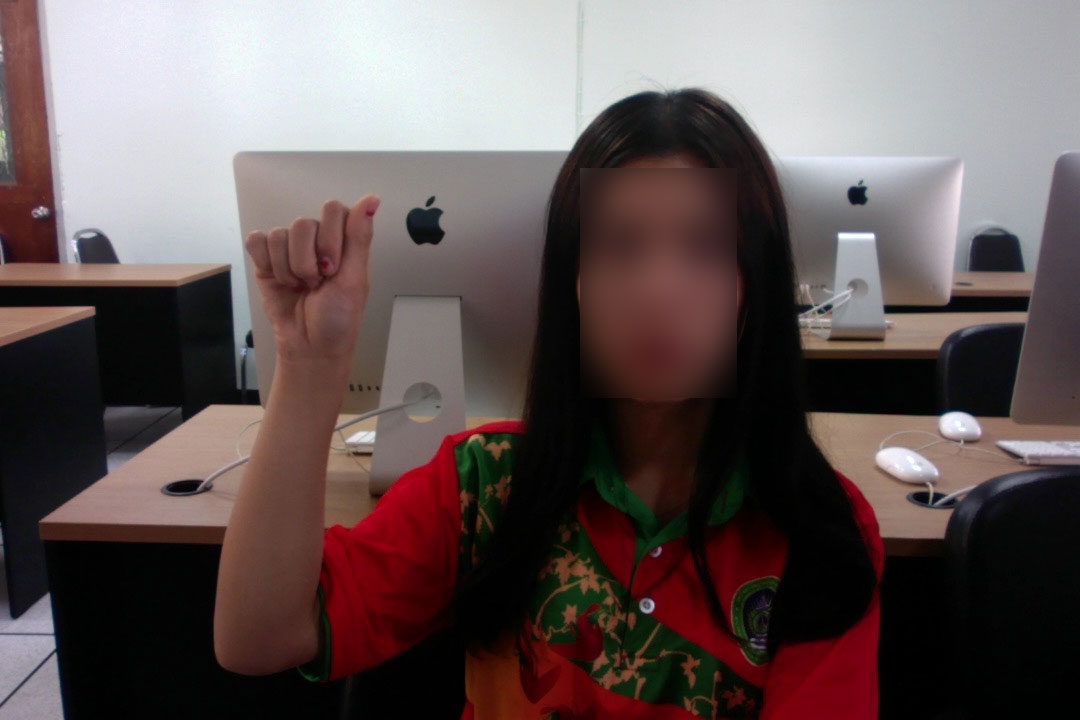or: (239, 185, 396, 374)
